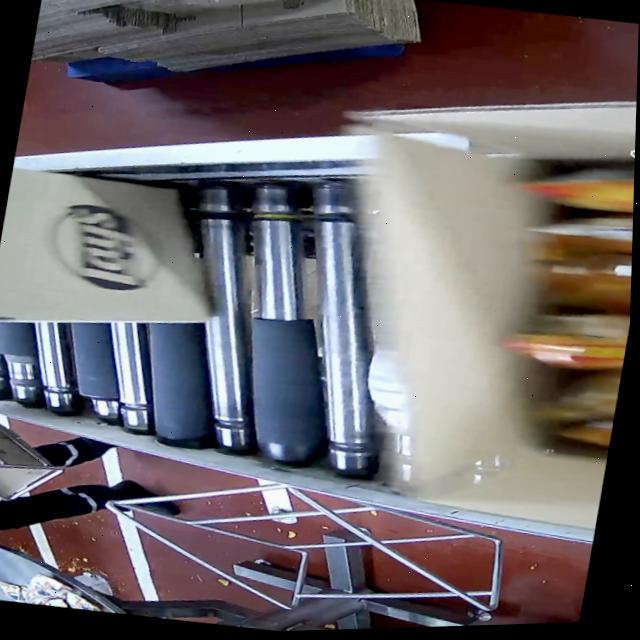FRENCH_CHEESE: (504, 147, 635, 456)
